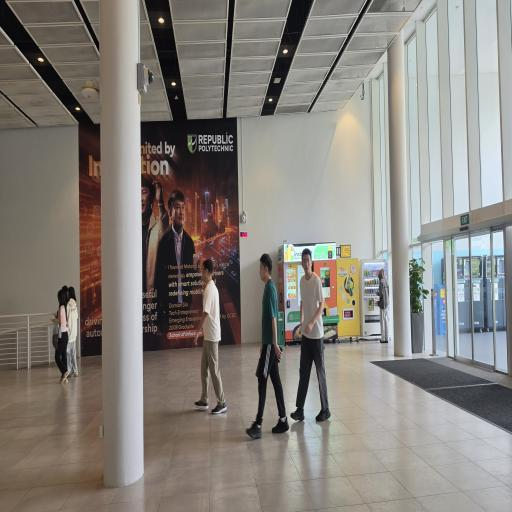person_left: (244, 244, 291, 436), (292, 246, 334, 430), (188, 248, 228, 416), (54, 288, 68, 384), (66, 282, 80, 378)
